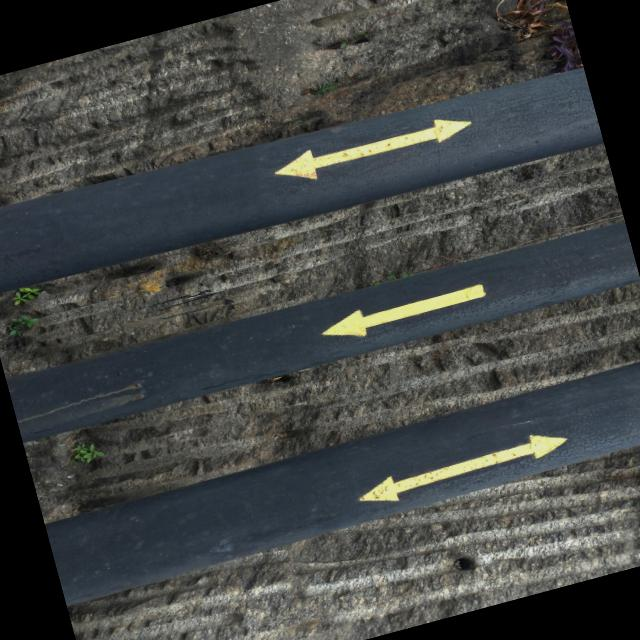gas: (44, 365, 640, 609), (5, 220, 640, 445), (0, 65, 604, 292)
